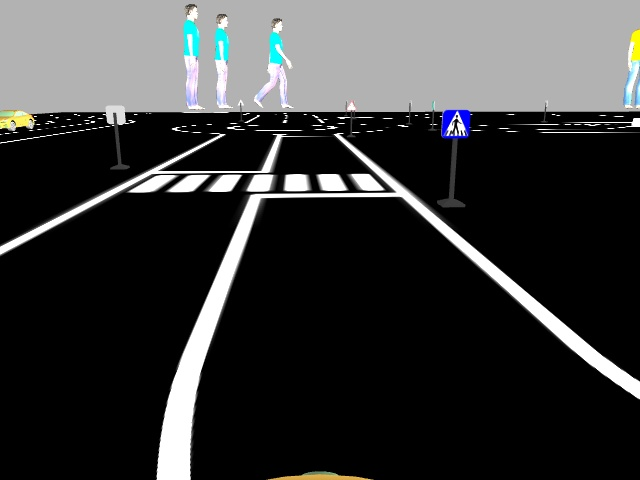Crosswalk: (440, 109, 470, 137)
